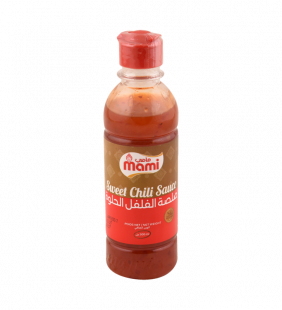MAMI: (98, 24, 184, 286)
